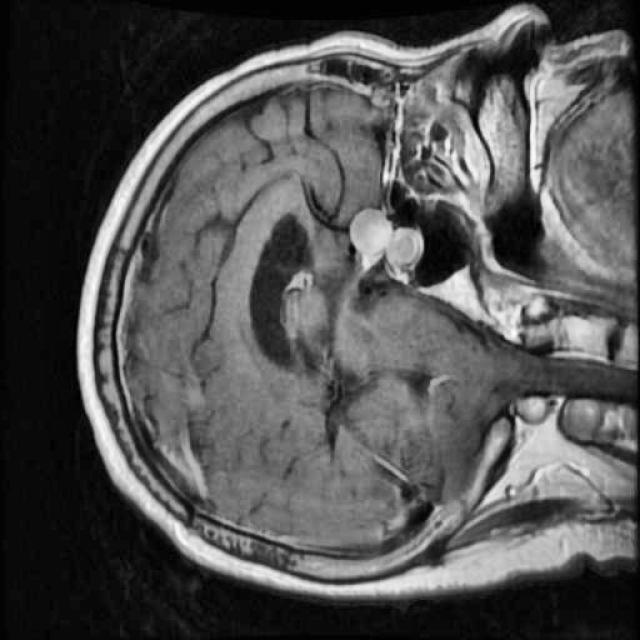Tumor: (339, 189, 431, 281)
